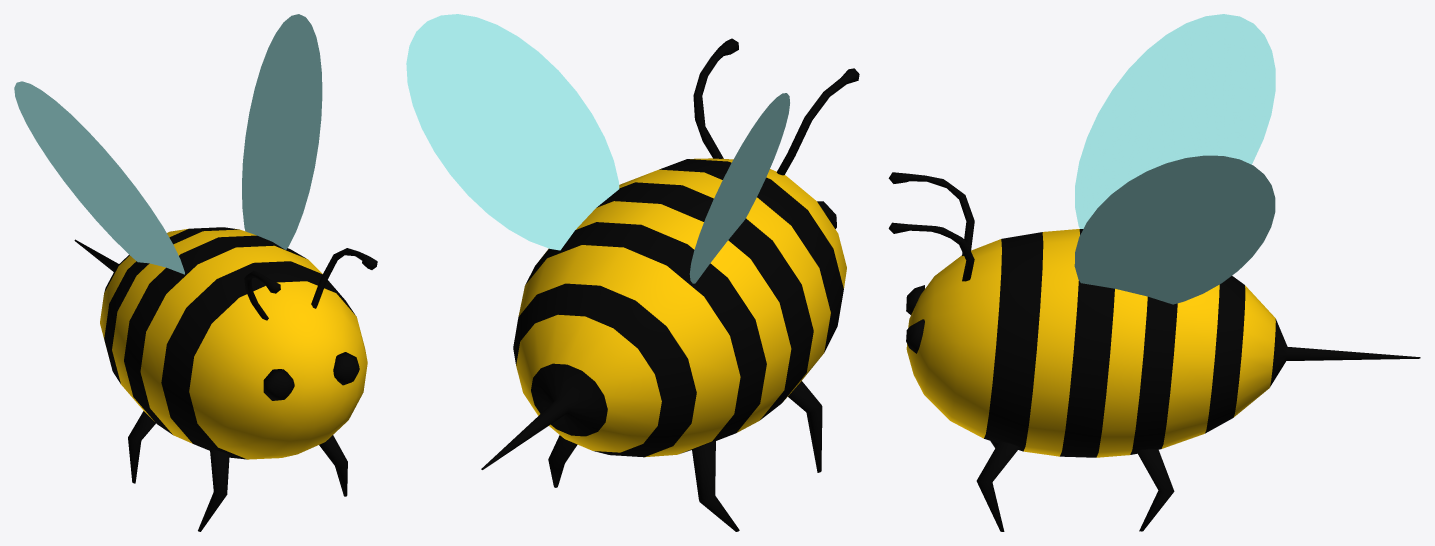
The picture shows the model from 3 angles, left to right: view 1: azimuth 30°, elevation 25°; view 2: azimuth 150°, elevation 25°; view 3: azimuth 270°, elevation 25°; orthographic projection. The views are drawn at different scales.
Parts seen in each view (by area): view 1: Bee, Bee_Wing2, Bee_Wing1; view 2: Bee, Bee_Wing2, Bee_Wing1; view 3: Bee, Bee_Wing1, Bee_Wing2.
Part boxes in pixels (bbox=[...]): Bee: bbox=[74, 227, 377, 531]; Bee_Wing2: bbox=[242, 14, 322, 249]; Bee_Wing1: bbox=[14, 81, 184, 274]; Bee: bbox=[481, 38, 859, 531]; Bee_Wing2: bbox=[406, 14, 619, 250]; Bee_Wing1: bbox=[689, 93, 789, 283]; Bee: bbox=[888, 172, 1420, 531]; Bee_Wing1: bbox=[1075, 14, 1275, 228]; Bee_Wing2: bbox=[1074, 155, 1275, 304].
Size of what is drawn, in the model's own units: 0.5974 by 0.799 by 0.9406.
